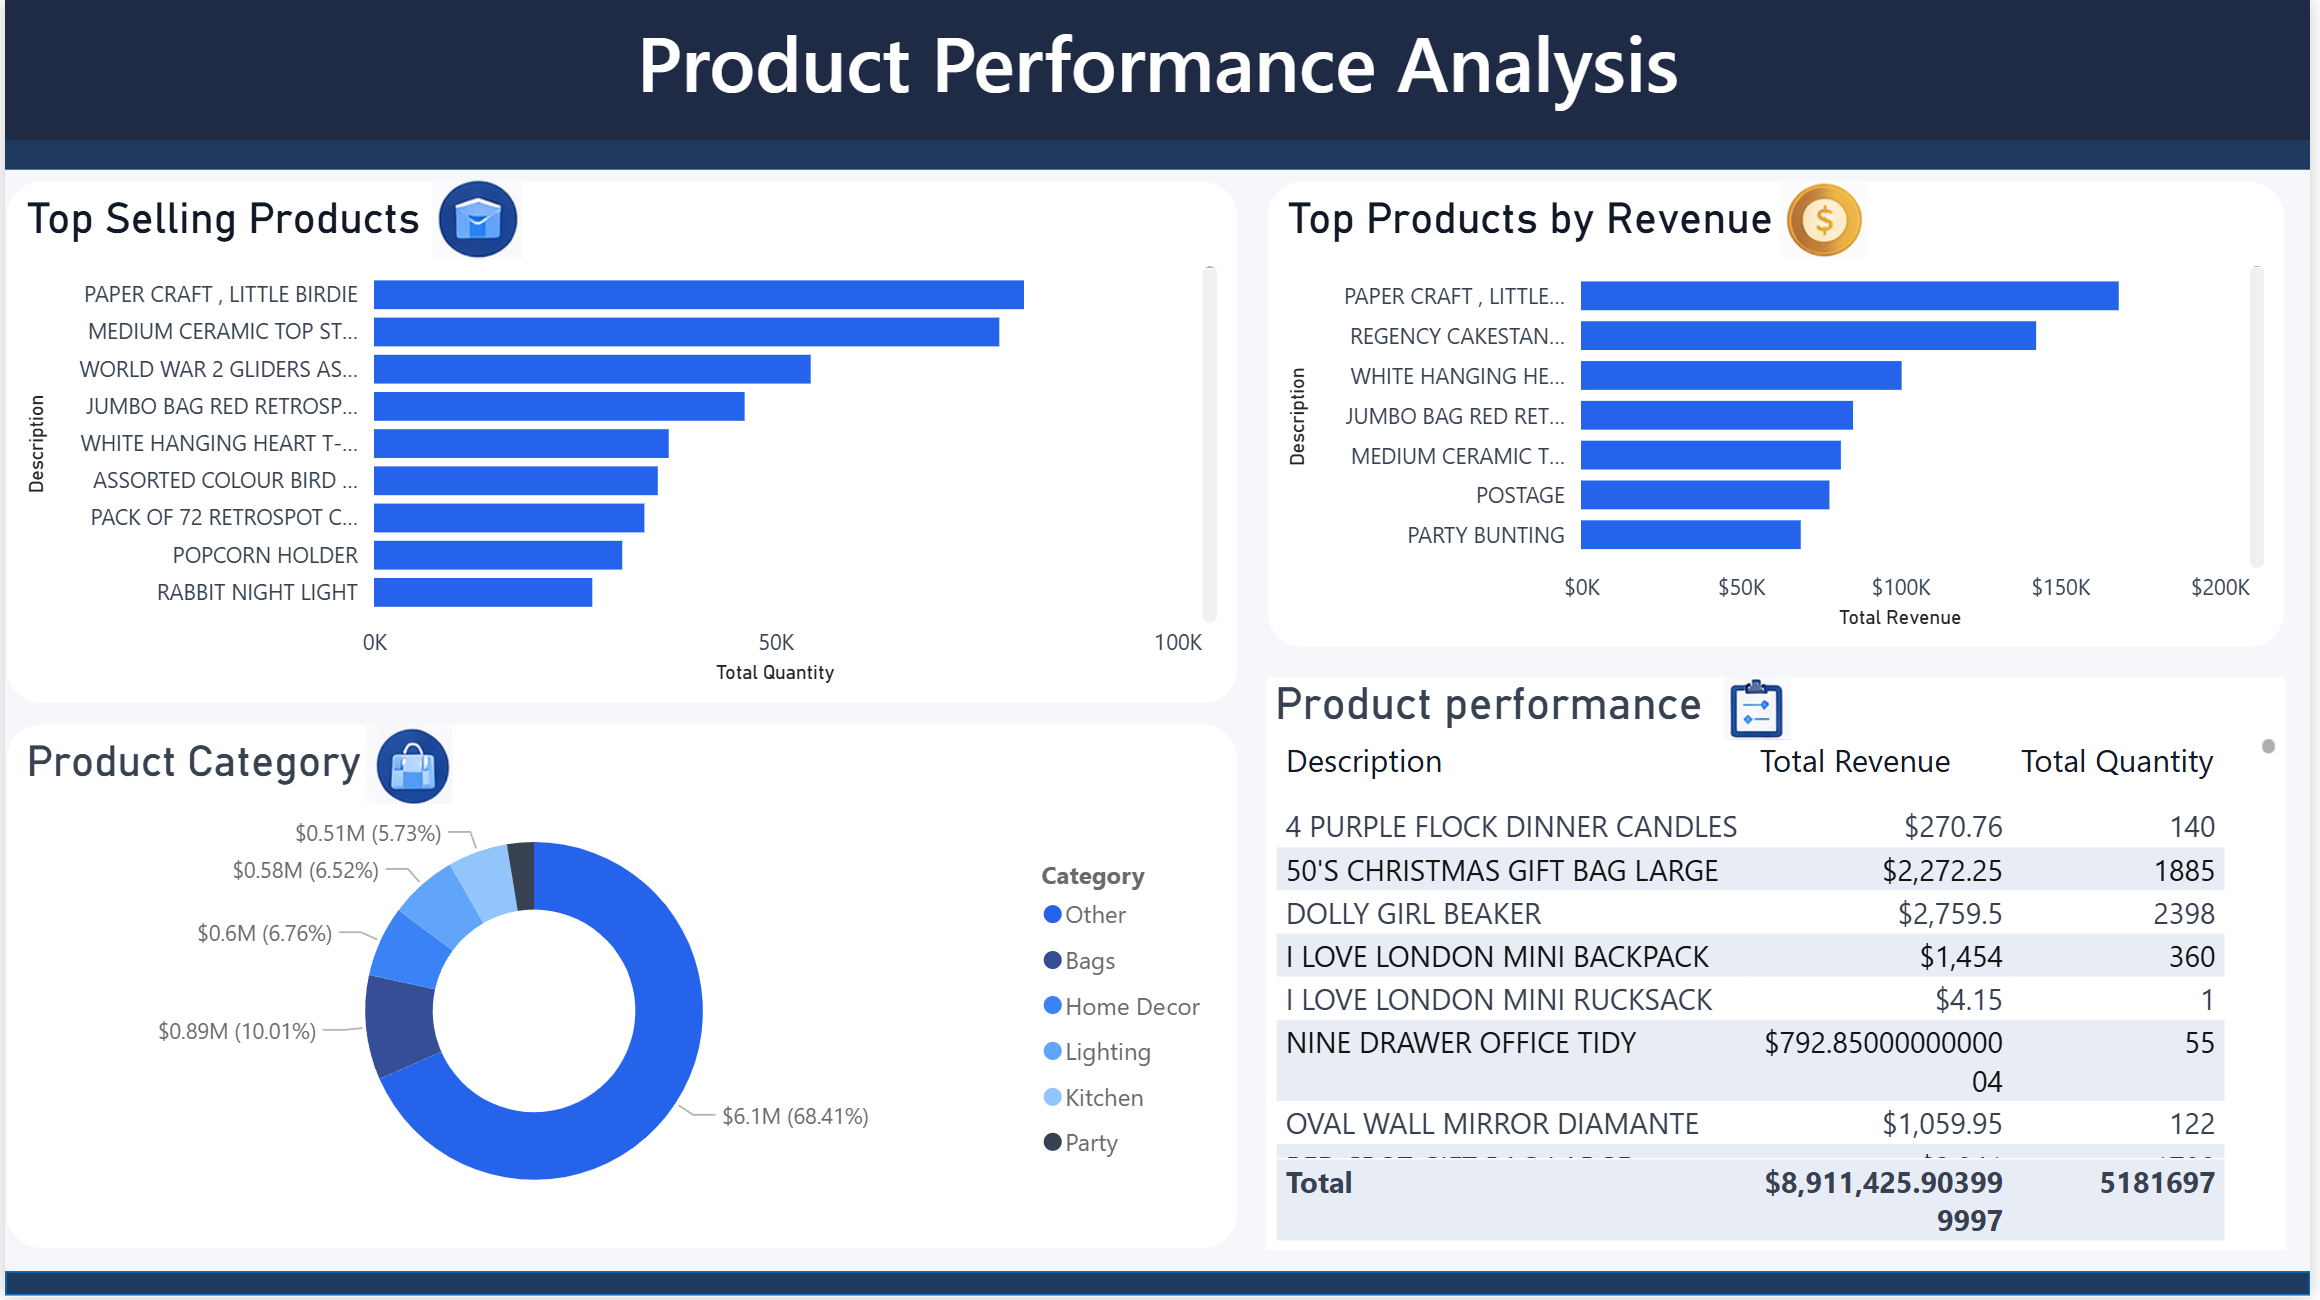

The dashboard page shown, as its layout file describes it:
{"tool":"powerbi","page":{"name":"product","canvas":[1280,720],"ordinal":1},"visuals":[{"type":"textbox","box":[0,0,1280.3,93.9],"z":0},{"type":"barChart","title":"Top Products by Revenue","fields":{"Category":["online_retail.Description"],"Y":["online_retail.Total Revenue"]},"box":[700,100,566.7,260.6],"z":0,"group":"g3"},{"type":"donutChart","title":"Product Category","fields":{"Category":["online_retail.Category"],"Y":["online_retail.Total Revenue"]},"box":[0,401.5,684.8,292.4],"z":0,"group":"g1"},{"type":"shape","box":[0,77.3,1280.3,16.7],"z":1000},{"type":"barChart","title":"Top Selling Products","fields":{"Category":["online_retail.Description"],"Y":["online_retail.Total Quantity"]},"box":[0,100,684.8,290.9],"z":1000,"group":"g2"},{"type":"image","box":[200,401.5,48.5,45.5],"z":1000,"group":"g1"},{"type":"tableEx","title":"Product performance","fields":{"Values":["online_retail.Description","online_retail.Total Revenue","online_retail.Total Quantity"]},"box":[700,375.8,566.7,318.2],"z":2000,"group":"g4"},{"type":"shape","box":[0,706.1,1280.3,13.6],"z":2000},{"type":"group","id":"g1","title":"Group 1","box":[0,401.5,684.8,292.4],"z":3000},{"type":"group","id":"g2","title":"Group 2","box":[0,100,684.8,290.9],"z":4000},{"type":"image","box":[983.3,100,53,43.9],"z":4003,"group":"g3"},{"type":"image","box":[236.4,100,51.5,43.9],"z":4004,"group":"g2"},{"type":"image","box":[946.4,375.4,52.2,34.8],"z":4005,"group":"g4"},{"type":"group","id":"g3","title":"Group 3","box":[700,100,566.7,260.6],"z":5000},{"type":"group","id":"g4","title":"Group 4","box":[700,375.4,566.7,318.6],"z":6000}]}

Visuals, with their boxes in screenshot pixels (x1, y1, x2, y2), scaled from the page's 1280x720 canvas onto the 2320x1300 screenshot:
textbox: [x1=0, y1=0, x2=2319, y2=170]
"Top Products by Revenue" barChart: [x1=1269, y1=181, x2=2296, y2=651]
"Product Category" donutChart: [x1=0, y1=725, x2=1241, y2=1253]
shape: [x1=0, y1=140, x2=2319, y2=170]
"Top Selling Products" barChart: [x1=0, y1=181, x2=1241, y2=706]
image: [x1=362, y1=725, x2=450, y2=807]
"Product performance" tableEx: [x1=1269, y1=679, x2=2296, y2=1253]
shape: [x1=0, y1=1275, x2=2319, y2=1299]
"Group 1" group: [x1=0, y1=725, x2=1241, y2=1253]
"Group 2" group: [x1=0, y1=181, x2=1241, y2=706]
image: [x1=1782, y1=181, x2=1878, y2=260]
image: [x1=428, y1=181, x2=522, y2=260]
image: [x1=1715, y1=678, x2=1810, y2=741]
"Group 3" group: [x1=1269, y1=181, x2=2296, y2=651]
"Group 4" group: [x1=1269, y1=678, x2=2296, y2=1253]
